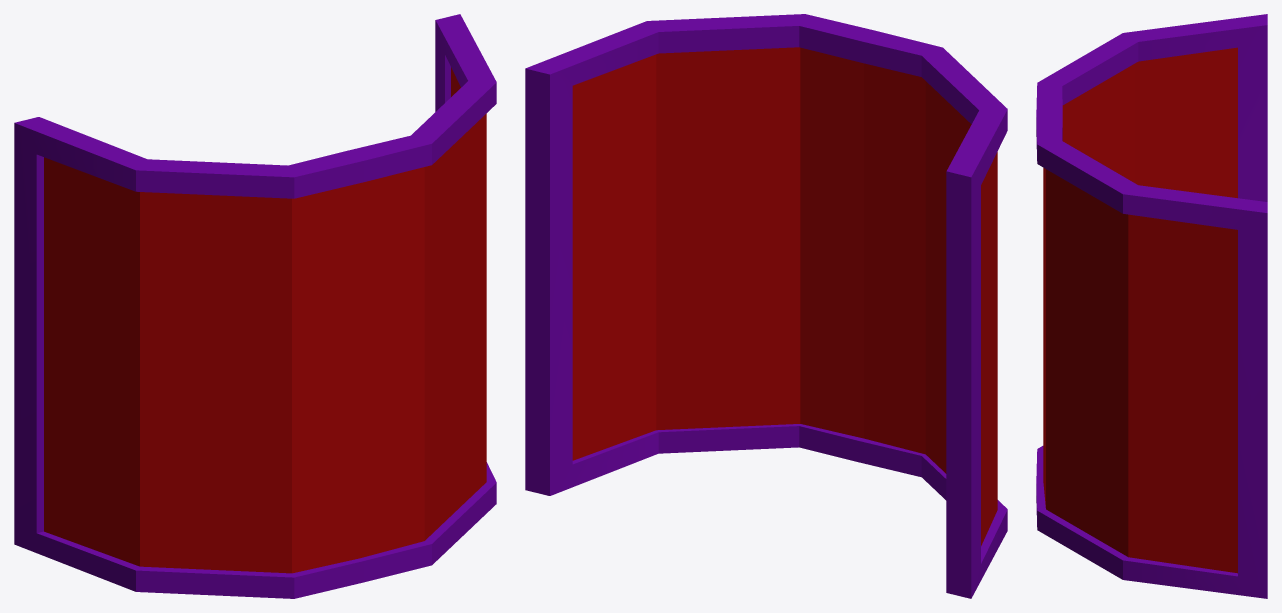
Rendered from TestTube3Door.fbx.
3 renders of one model, left to right at view 1: azimuth 30°, elevation 25°; view 2: azimuth 150°, elevation 25°; view 3: azimuth 270°, elevation 25°, orthographic. The views are drawn at different scales.
Visible parts, largest first — view 1: polySurface49; view 2: polySurface49; view 3: polySurface49.
Boxes of the visible parts, left/top/right/bottom form: polySurface49: left=14, top=14, right=496, bottom=598; polySurface49: left=525, top=14, right=1007, bottom=598; polySurface49: left=1036, top=14, right=1267, bottom=598.
Bounding box in the file's own units: 309 × 280 × 152.
